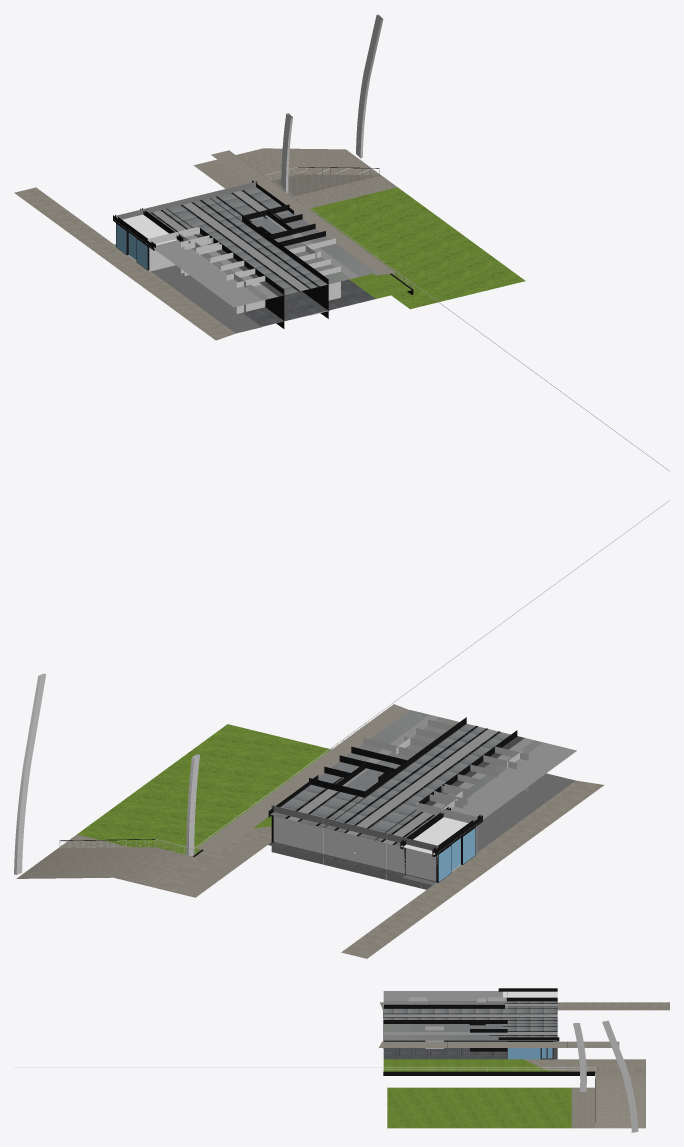
File: Valdebebas_hall_VR.FBX
3 views of the same model, one above another, from view 1: azimuth 30°, elevation 25°; view 2: azimuth 150°, elevation 25°; view 3: azimuth 270°, elevation 25° (orthographic). The views are drawn at different scales.
Parts seen in each view (by area): view 1: wall_module_valdebebas_holl; view 2: wall_module_valdebebas_holl; view 3: wall_module_valdebebas_holl.
Part boxes in pixels (x1,y1,x2,y2): wall_module_valdebebas_holl: [14, 14, 669, 471]; wall_module_valdebebas_holl: [14, 500, 669, 958]; wall_module_valdebebas_holl: [14, 988, 669, 1132].
Size of the model in its own units: 4515 by 2079 by 11082.
